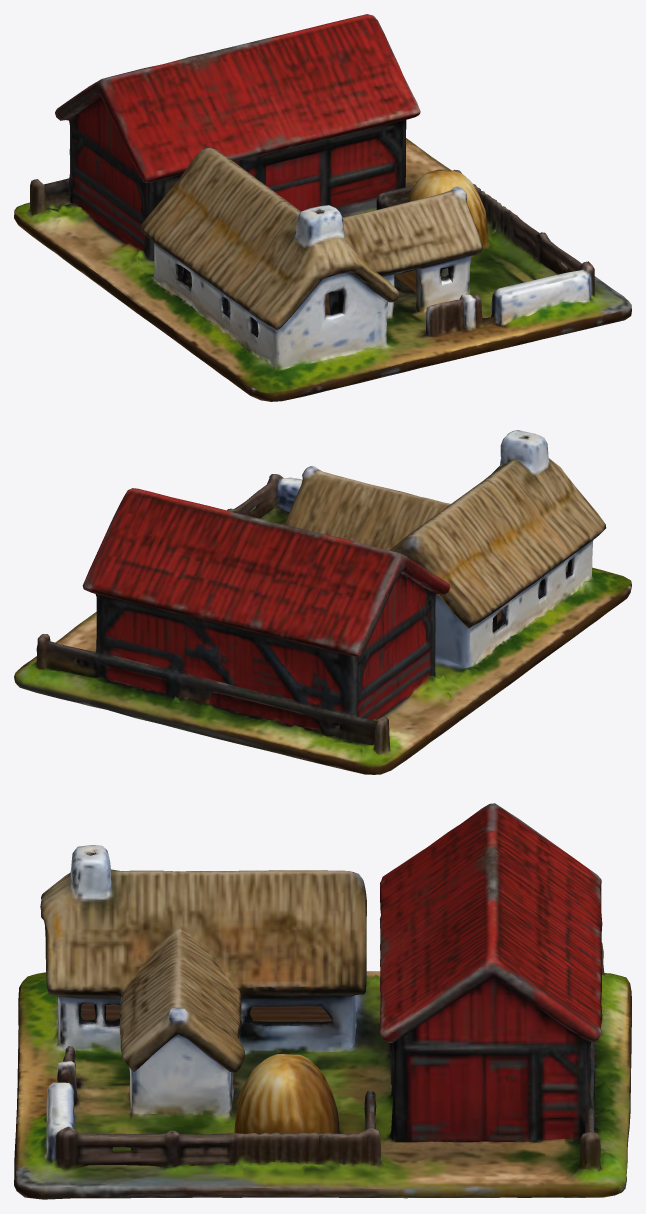
Rendered from farm_b.glb.
3 renders of one model, top to bottom at view 1: azimuth 30°, elevation 25°; view 2: azimuth 150°, elevation 25°; view 3: azimuth 270°, elevation 25°, orthographic. The views are drawn at different scales.
Visible parts, largest first — view 1: world; view 2: world; view 3: world.
Boxes of the visible parts, bbox=[...] form: world: bbox=[14, 14, 631, 401]; world: bbox=[14, 430, 631, 774]; world: bbox=[14, 803, 631, 1199].
Size of the model in its own units: 0.8304 by 0.3648 by 1.
1 material, 1 textured.
